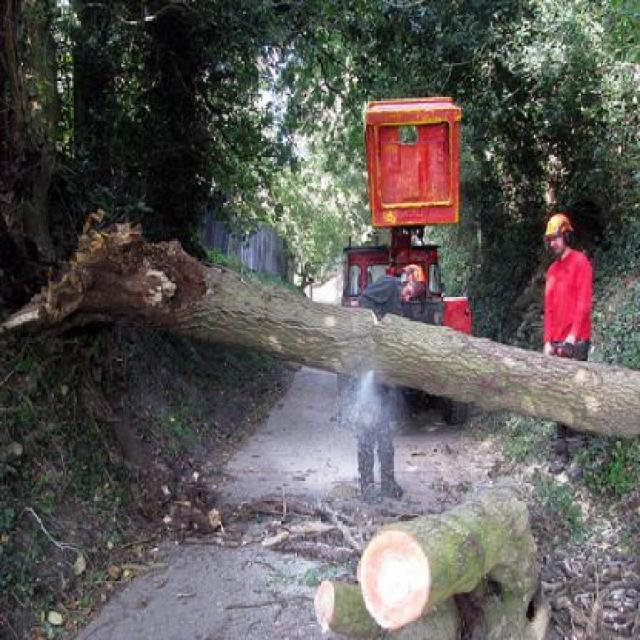Chainsaw: (548, 345, 568, 357)
